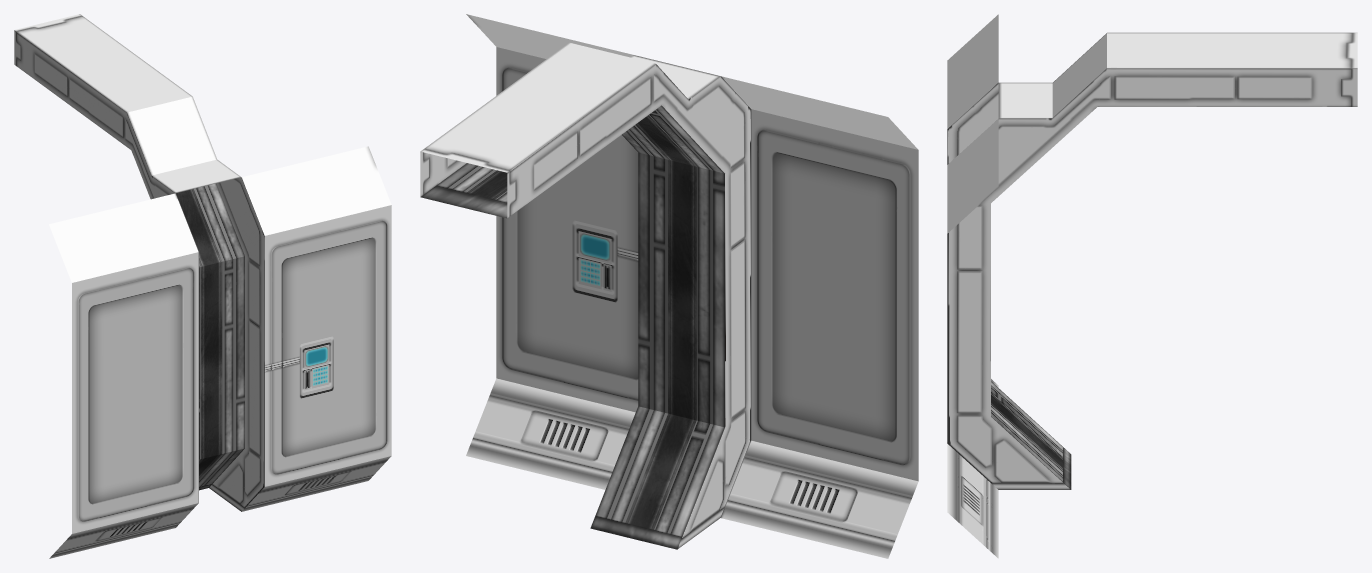
Rendered from Sect_Wall_11_Gate.FBX.
3 renders of one model, left to right at view 1: azimuth 30°, elevation 25°; view 2: azimuth 150°, elevation 25°; view 3: azimuth 270°, elevation 25°, orthographic. The views are drawn at different scales.
Parts seen in each view (by area): view 1: Wall_11_Gate; view 2: Wall_11_Gate; view 3: Wall_11_Gate.
Boxes of the visible parts, x1,y1,x2,y2 form: Wall_11_Gate: [14, 14, 391, 558]; Wall_11_Gate: [420, 14, 918, 558]; Wall_11_Gate: [947, 14, 1357, 558].
Bounding box in the file's own units: 4 × 4.54 × 4.
